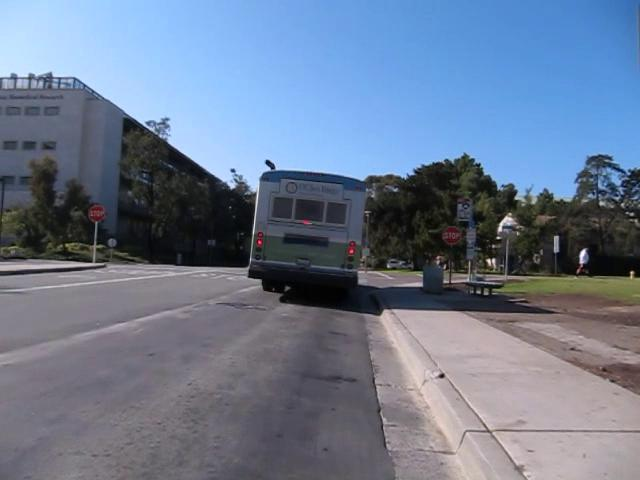stop: (87, 204, 106, 223)
